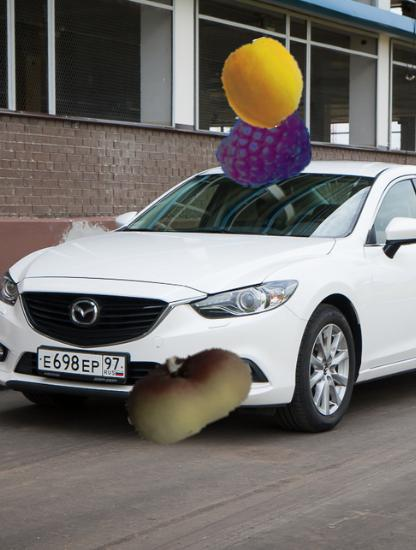Peach: (122, 326, 256, 460), (218, 39, 308, 129)
Raspberry: (214, 94, 310, 190)
